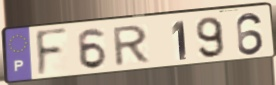1: (170, 20, 188, 61)
6: (76, 27, 109, 72), (235, 10, 265, 57)
9: (194, 16, 227, 59)
F: (34, 26, 70, 81)
R: (112, 23, 152, 68)
